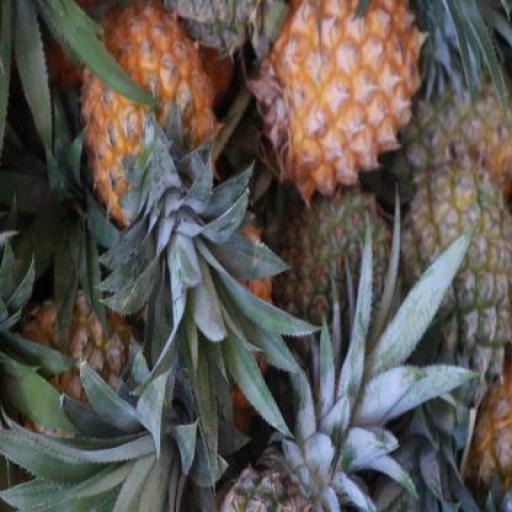------------------------------: (399, 156, 511, 397)
Pineapple - v8 v1: (255, 0, 426, 199), (78, 8, 216, 228)
